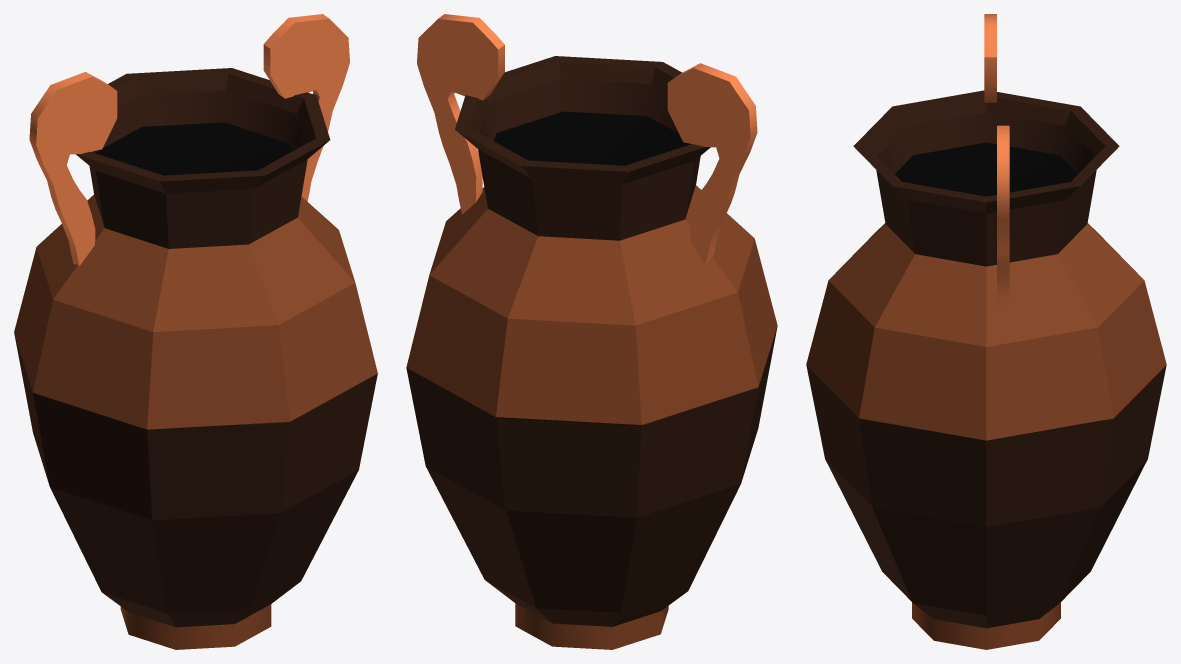
File: Broken Pot 2.fbx
The picture shows the model from 3 angles, left to right: view 1: azimuth 30°, elevation 25°; view 2: azimuth 150°, elevation 25°; view 3: azimuth 270°, elevation 25°; orthographic projection. The views are drawn at different scales.
Parts seen in each view (by area): view 1: Object001, Cylinder003, Object002; view 2: Object001, Cylinder003, Object002; view 3: Object001, Cylinder003, Object002.
Boxes of the visible parts, <box> form: Object001: <box>14,14,362,440</box>; Cylinder003: <box>16,314,377,548</box>; Object002: <box>51,489,325,649</box>; Object001: <box>417,14,777,436</box>; Cylinder003: <box>406,307,774,546</box>; Object002: <box>459,486,739,649</box>; Object001: <box>812,14,1160,364</box>; Cylinder003: <box>806,341,1166,583</box>; Object002: <box>846,501,1126,649</box>.
Size of the model in its own units: 6.89 by 11.46 by 6.89.
3 materials, 3 textured.
